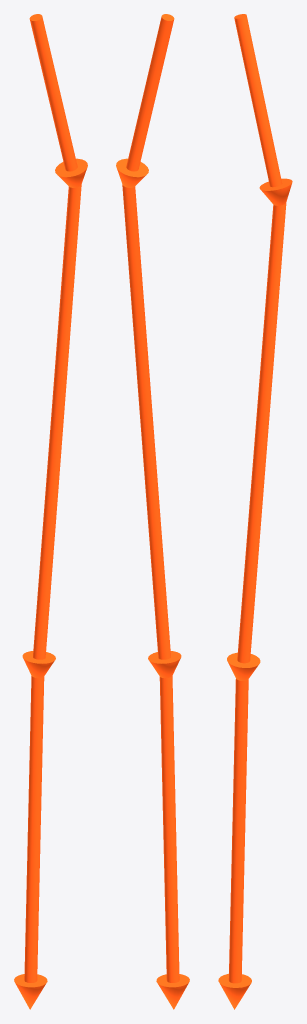
Rendered from gyratory_crusher_flow.glb.
The picture shows the model from 3 angles, left to right: view 1: azimuth 30°, elevation 25°; view 2: azimuth 150°, elevation 25°; view 3: azimuth 330°, elevation 25°; orthographic projection.
Visible parts, largest first — view 1: material; view 2: material; view 3: material.
Part boxes in pixels (box(x1,y1,x2,y2)): material: box(14, 14, 87, 1009); material: box(116, 14, 189, 1009); material: box(218, 14, 292, 1009).
Size of the model in its own units: 0.1856 by 2.53 by 0.078.
